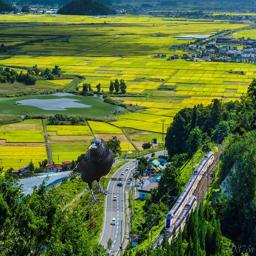Crow: (63, 135, 115, 206)
